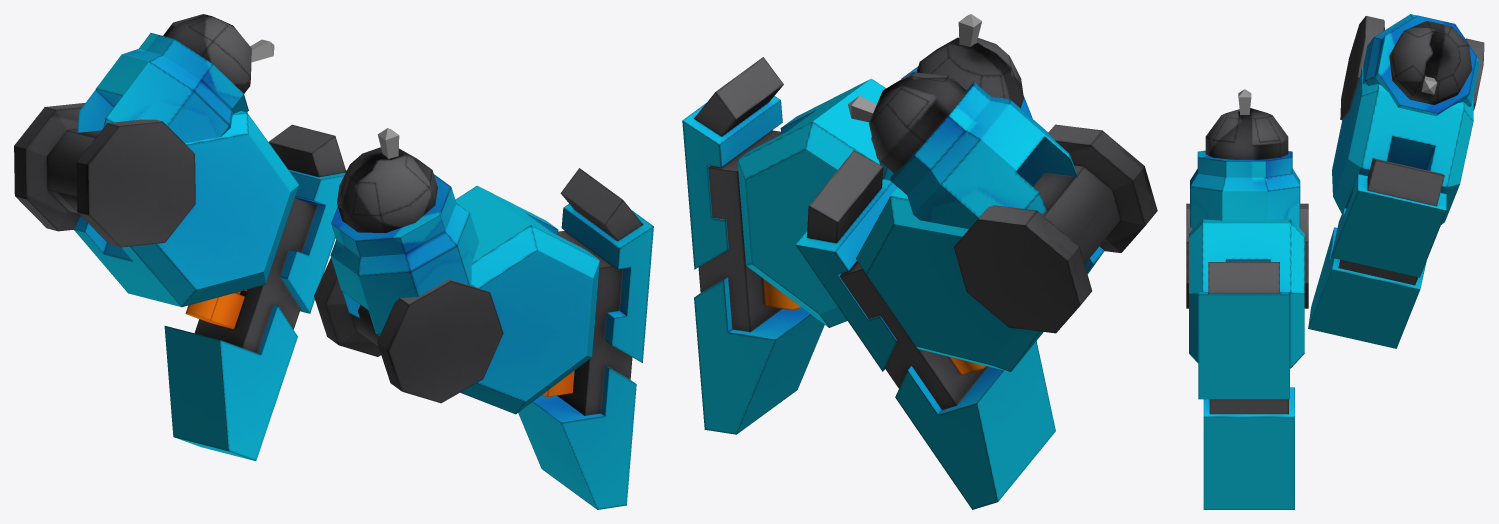
The model's file is Bottom_Running29.obj.
3 views of the same model, side by side, from view 1: azimuth 30°, elevation 25°; view 2: azimuth 150°, elevation 25°; view 3: azimuth 270°, elevation 25° (orthographic). The views are drawn at different scales.
Visible parts, largest first — view 1: Object010, Object013, Object011, Object014, Object012, Object009; view 2: Object010, Object011, Object014, Object009, Object013, Object012, Bone023, Bone006; view 3: Object014, Object011, Object010, Object012, Object013, Object009.
Part boxes in pixels (<box>): Object010: <box>14,103,298,307</box>; Object013: <box>314,185,599,414</box>; Object011: <box>164,124,346,460</box>; Object014: <box>518,168,653,509</box>; Object012: <box>330,147,479,336</box>; Object009: <box>77,14,251,143</box>; Object010: <box>856,124,1157,371</box>; Object011: <box>795,150,1055,509</box>; Object014: <box>682,57,824,434</box>; Object009: <box>869,72,1077,229</box>; Object013: <box>737,78,885,327</box>; Object012: <box>871,37,1032,179</box>; Bone023: <box>958,14,981,46</box>; Bone006: <box>848,95,876,122</box>; Object014: <box>1198,262,1294,509</box>; Object011: <box>1308,158,1446,348</box>; Object010: <box>1332,16,1484,224</box>; Object012: <box>1190,108,1300,228</box>; Object013: <box>1186,203,1308,368</box>; Object009: <box>1363,14,1479,115</box>.
Size of the model in its own units: 138 by 126 by 92.
